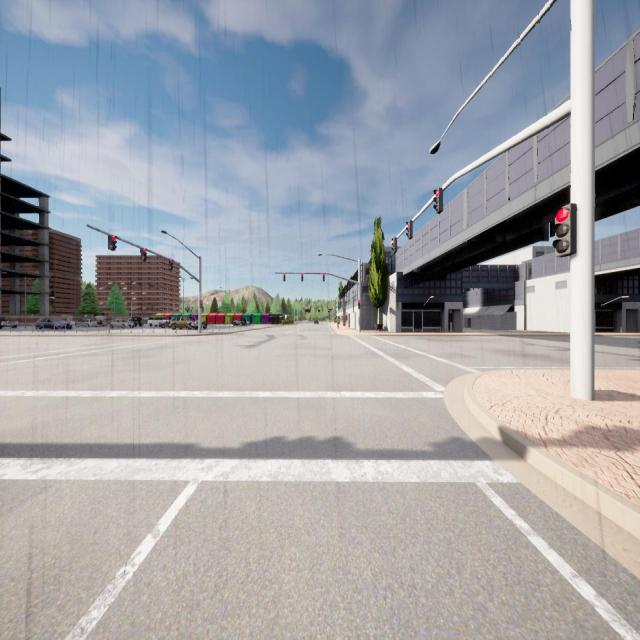Vehicle: (35, 315, 72, 330), (170, 316, 190, 330), (147, 317, 169, 328), (110, 319, 134, 329), (78, 316, 98, 328), (0, 316, 18, 329), (187, 320, 207, 330), (95, 316, 108, 327), (131, 318, 142, 328), (232, 318, 245, 326), (246, 321, 250, 326), (314, 320, 318, 324)
traffic_light: (552, 204, 576, 258), (433, 188, 443, 214), (108, 235, 117, 251), (406, 220, 413, 240), (391, 238, 397, 254), (141, 248, 147, 261), (168, 258, 174, 270), (283, 272, 286, 282), (200, 300, 203, 308), (358, 300, 360, 308), (301, 273, 303, 281), (323, 273, 325, 281)
